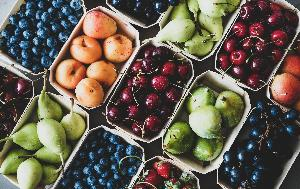apricot: (46, 10, 140, 101), (82, 11, 117, 39), (55, 59, 86, 89), (70, 35, 102, 64), (86, 60, 117, 88), (103, 34, 132, 63), (75, 78, 103, 108), (87, 93, 88, 93)
figs: (158, 91, 252, 164)
grape: (224, 99, 300, 188), (0, 0, 86, 71), (55, 128, 150, 189)
pear: (0, 105, 86, 182), (160, 0, 231, 52), (37, 118, 66, 179), (141, 18, 196, 44), (37, 69, 62, 123), (189, 105, 225, 139), (0, 123, 43, 151), (215, 91, 245, 128), (164, 121, 195, 155), (60, 98, 85, 140), (184, 86, 216, 116), (190, 137, 224, 162), (0, 148, 30, 175), (184, 29, 214, 56), (16, 158, 42, 189), (198, 11, 223, 43), (17, 146, 61, 164), (198, 0, 228, 18), (39, 164, 62, 186), (170, 0, 192, 21), (187, 0, 200, 21), (63, 143, 71, 162), (201, 29, 210, 35)
strawberry: (130, 156, 203, 189), (143, 170, 164, 187), (157, 163, 170, 179), (173, 169, 182, 180), (168, 178, 179, 185), (134, 184, 146, 189), (182, 186, 193, 189)
